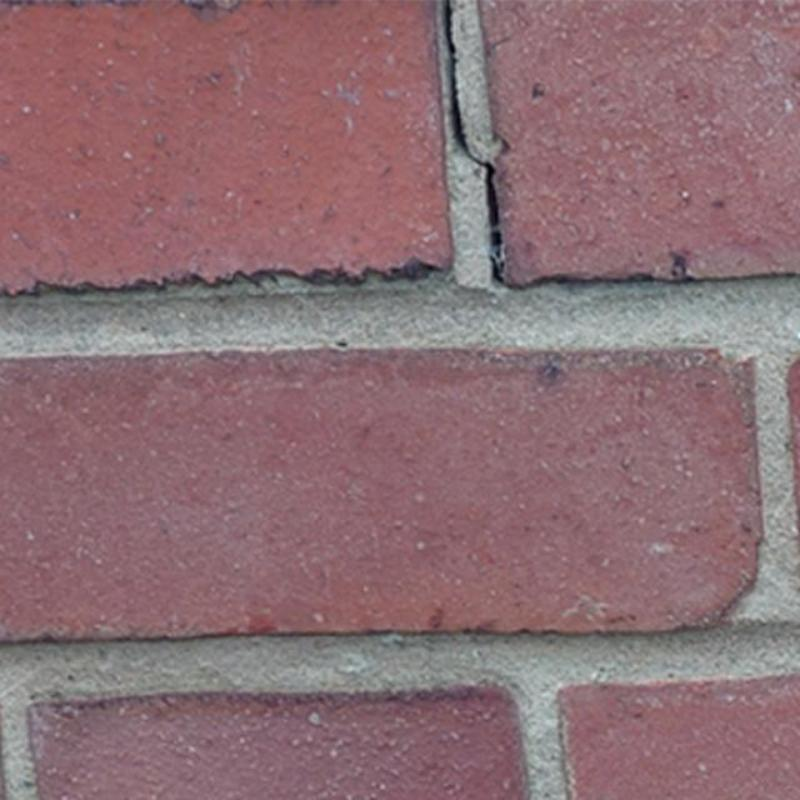pothole: (444, 1, 511, 288)
